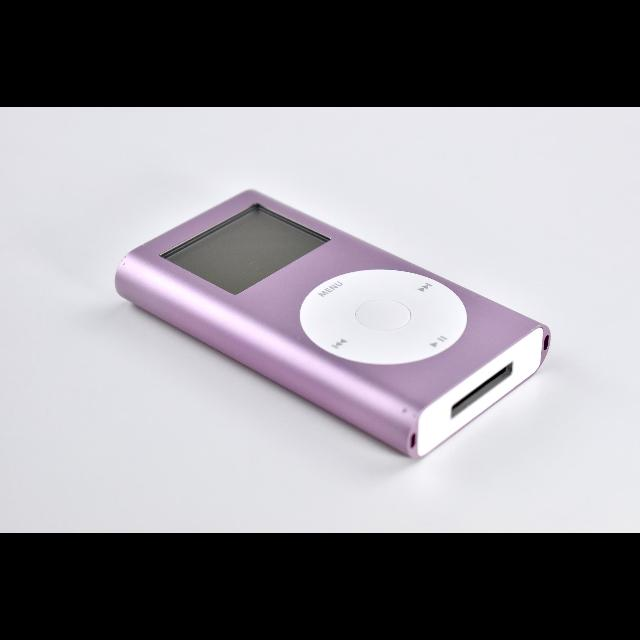Music-Player: (105, 184, 557, 463)
